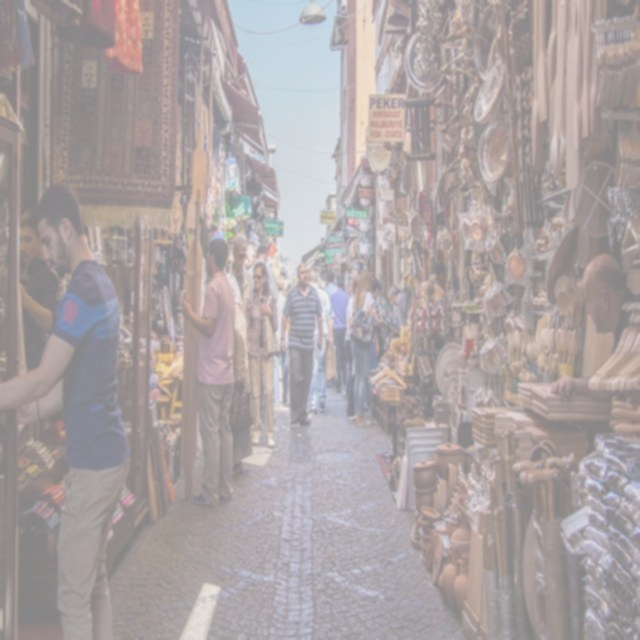pessoa: (0, 178, 133, 639), (180, 236, 240, 509), (550, 252, 640, 401), (241, 258, 282, 450), (279, 262, 324, 430), (18, 208, 58, 374), (346, 266, 386, 428), (228, 278, 256, 478), (307, 268, 337, 418), (222, 234, 256, 322), (278, 264, 298, 406), (328, 272, 350, 395), (344, 275, 361, 422), (272, 274, 290, 411), (364, 277, 382, 408), (247, 242, 280, 304), (388, 284, 412, 334), (346, 254, 366, 305), (420, 270, 438, 306), (323, 268, 338, 300)
